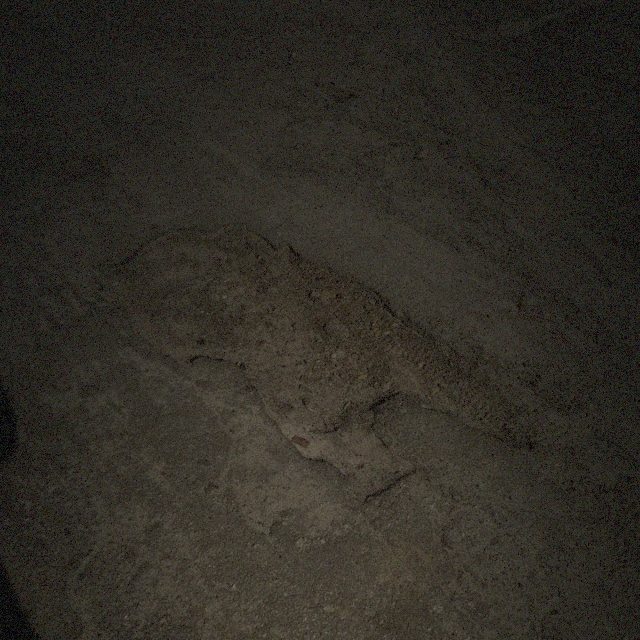pothole: (87, 216, 542, 506)
